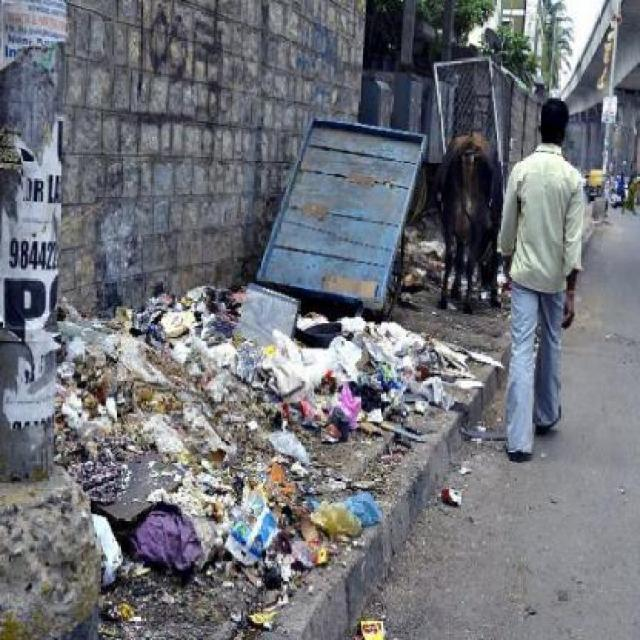garbage: (59, 312, 338, 573), (345, 315, 475, 423), (88, 582, 290, 629), (408, 229, 441, 296), (434, 471, 466, 506), (359, 613, 386, 639)
